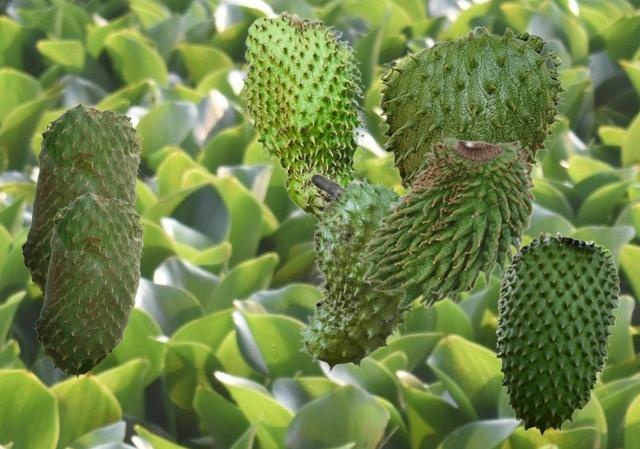guyabano: (378, 25, 568, 191), (359, 131, 536, 308), (240, 10, 367, 219), (495, 231, 619, 435), (297, 173, 417, 373), (20, 102, 142, 297), (34, 191, 145, 377)
